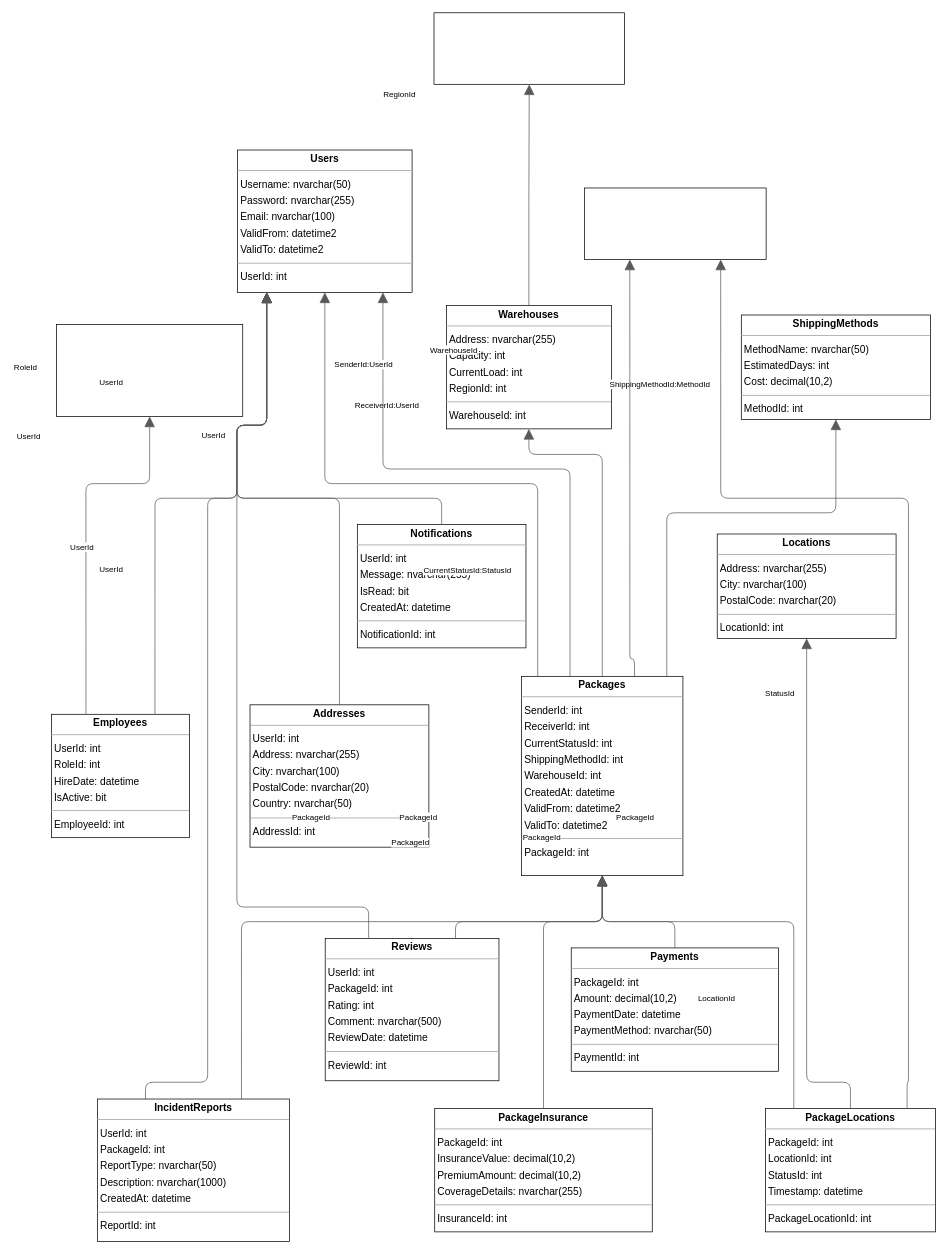
Image size: 948x1254. Some labels were removed from this diagram. Here are the shapes that lost their labels. From the top down, the centre of each, then its label:
At point 529,48: "ServiceRegions RegionName: nvarchar(100) RegionId: int".
At point 675,223: "Statuses StatusName: nvarchar(50) StatusId: int".
At point 149,370: "EmployeeRoles RoleName: nvarchar(50) Description: nvarchar(255) RoleId: int".
